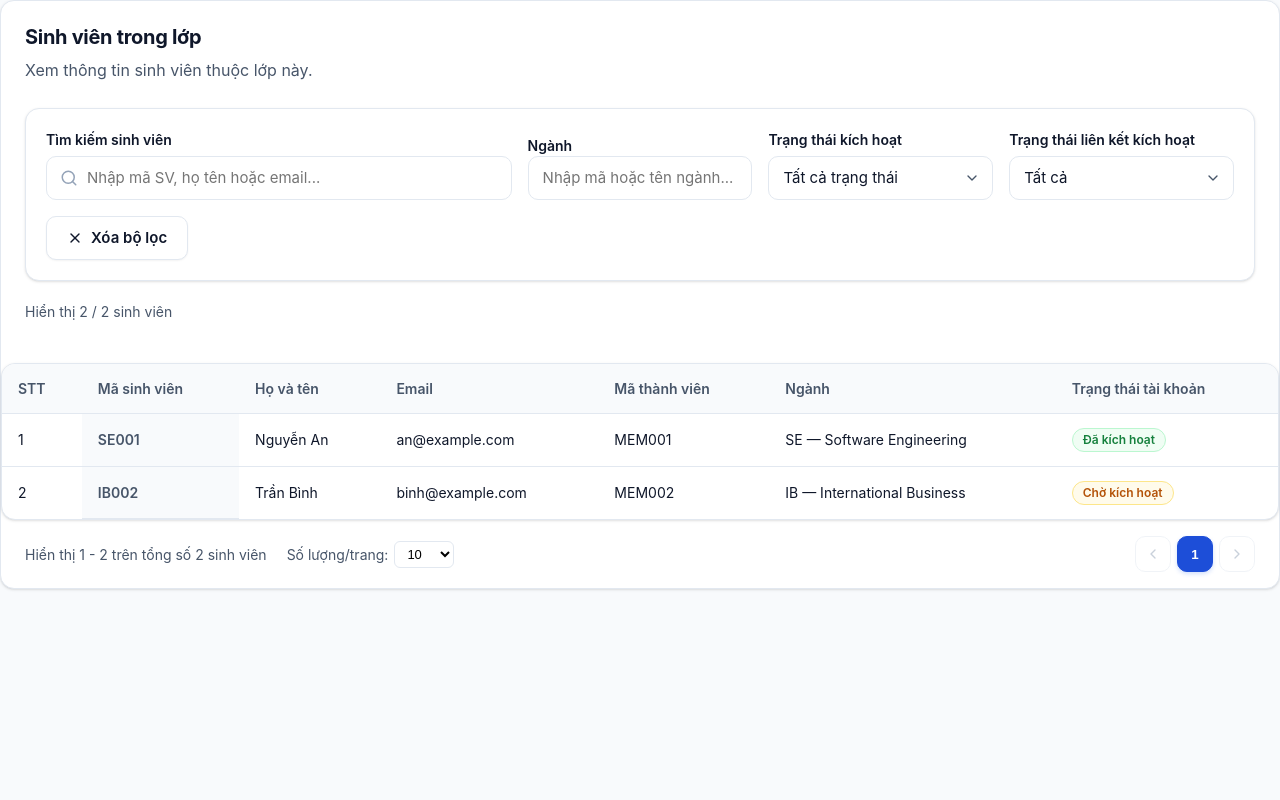
Test: Class student roster › filters by major text when no exact major has been selected
Check: the text "Nguyễn An" is shown, box [239, 414, 380, 466]
In the dropdown labelled "Ngành": (640, 178) [528, 156, 752, 200], type "business"
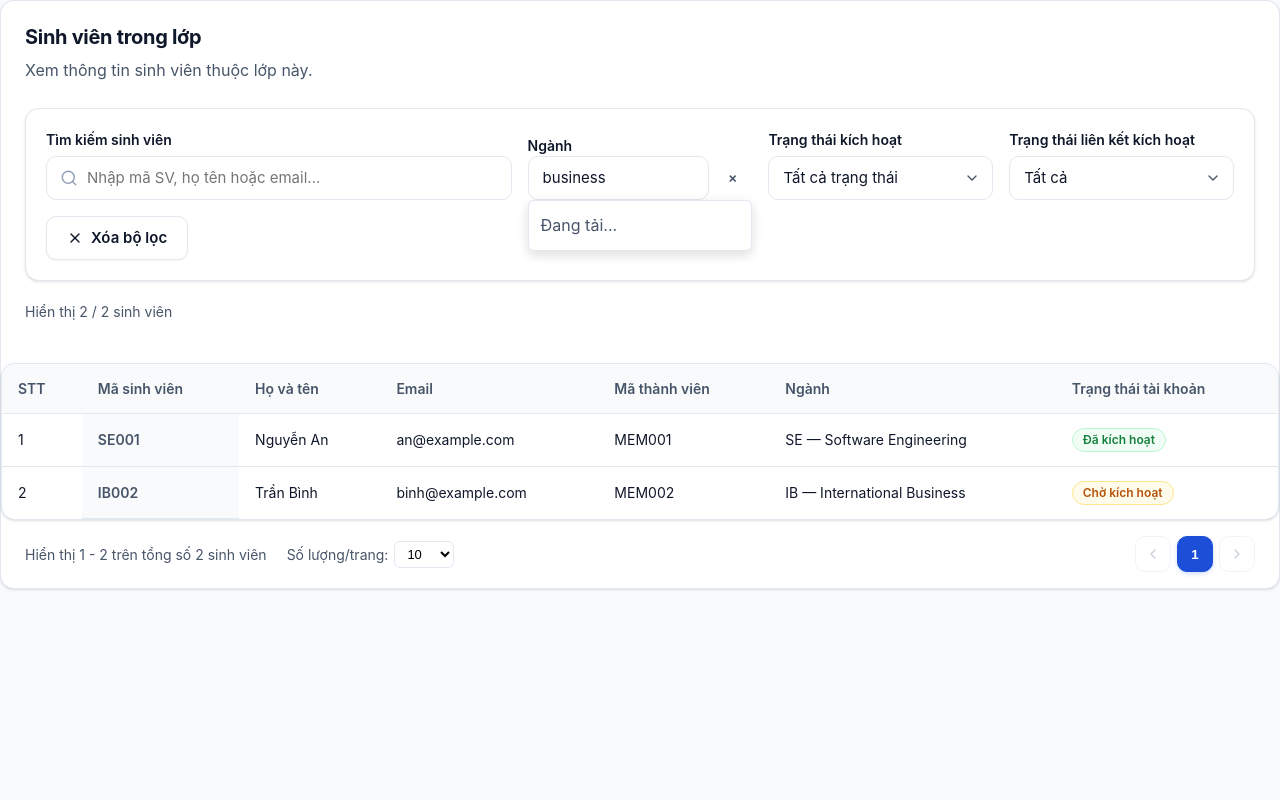
Press Enter in the dropdown labelled "Ngành", box [528, 156, 709, 200]
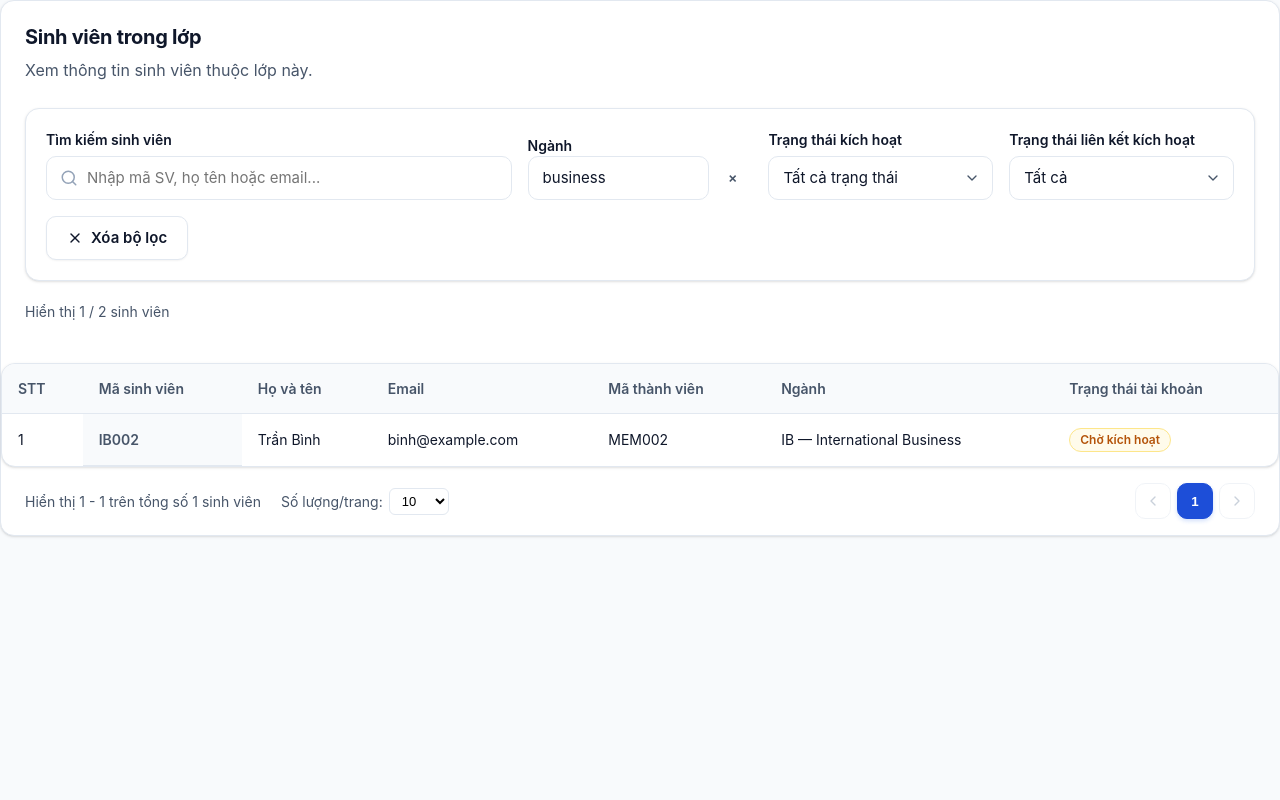
Check: the text "Trần Bình" is shown, box [242, 414, 372, 466]
Check: the text "Nguyễn An" is gone
